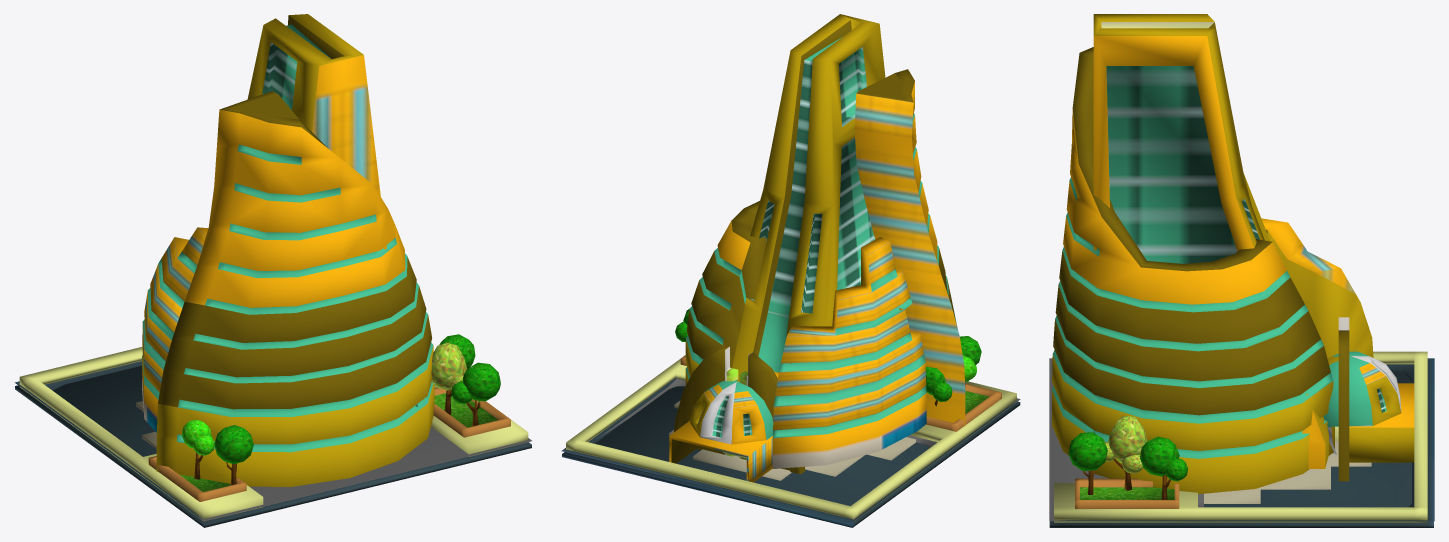
File: brokerage_LV3.fbx
3 views of the same model, side by side, from view 1: azimuth 30°, elevation 25°; view 2: azimuth 150°, elevation 25°; view 3: azimuth 270°, elevation 25° (orthographic). The views are drawn at different scales.
Parts seen in each view (by area): view 1: brokerage lv 3; view 2: brokerage lv 3; view 3: brokerage lv 3.
Boxes of the visible parts, x1,y1,x2,y2 form: brokerage lv 3: (14, 14, 531, 527); brokerage lv 3: (561, 14, 1020, 527); brokerage lv 3: (1049, 14, 1434, 527).
Size of the model in its own units: 100 by 120 by 100.
